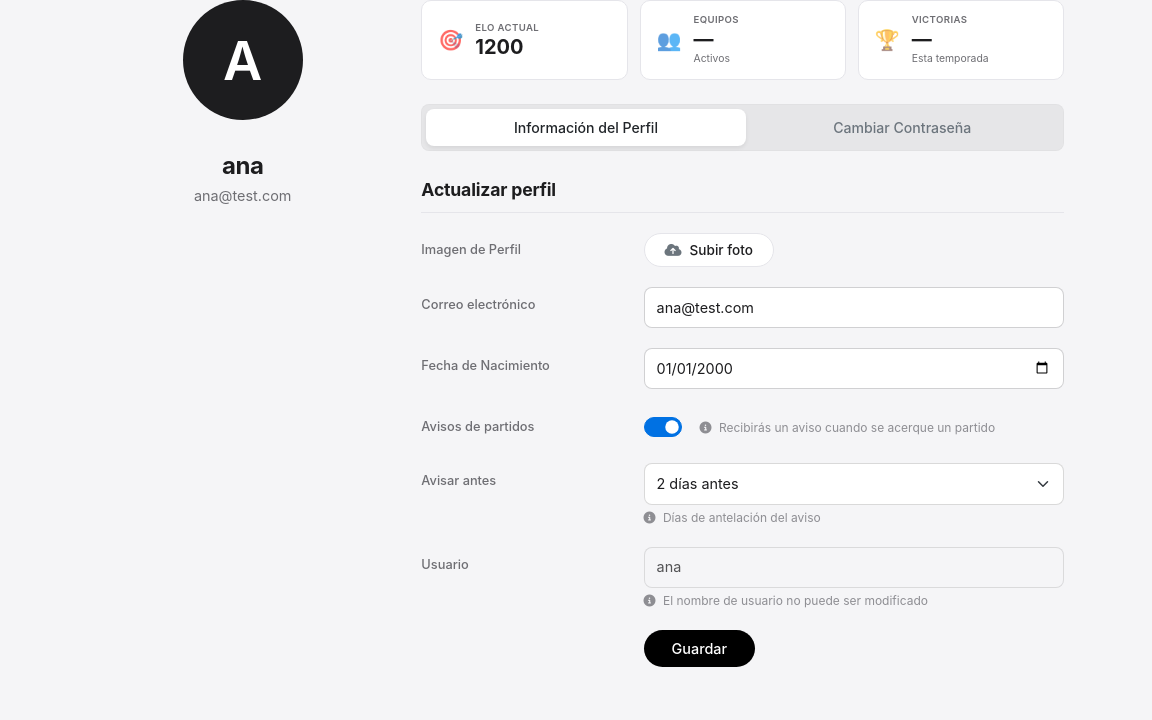
Profile › cambia la contrasena correctamente
The image size is (1152, 720).
Step 1. Click the tab "Cambiar Contraseña" → (902, 128), box 746,109 -> 1059,146
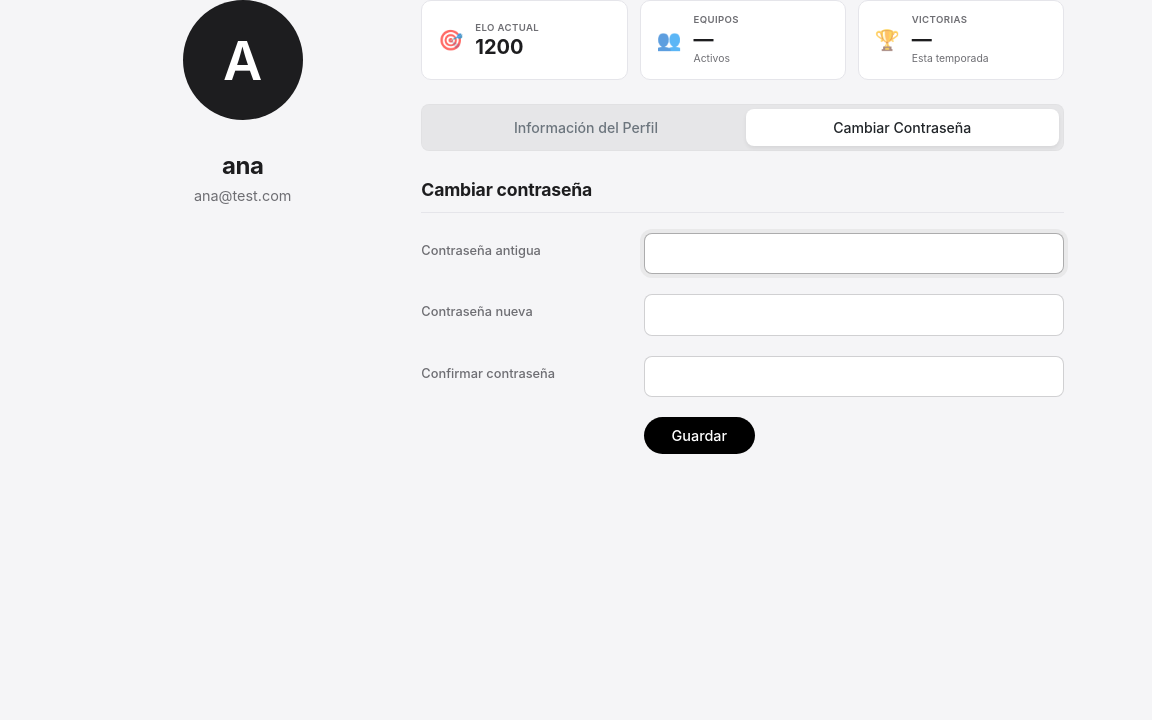
Step 2. Type "vieja1" into the password field with id "oldPassword" → (854, 254), box 644,233 -> 1064,274
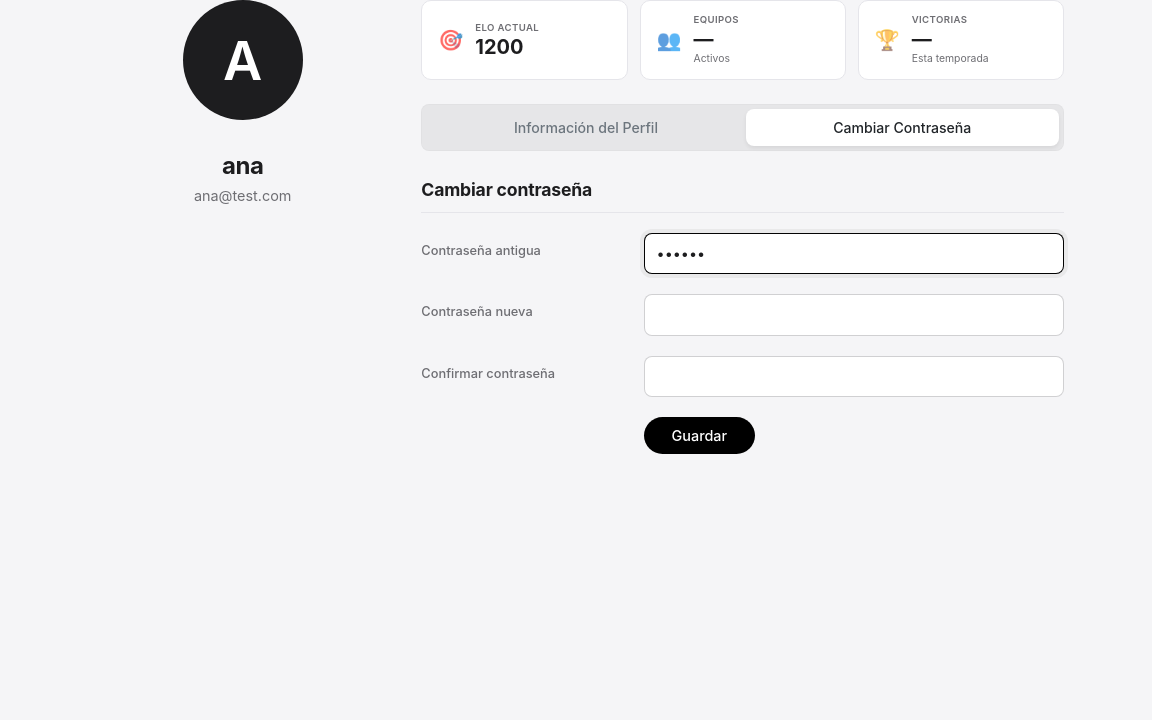
Step 3. Type "Nueva12@" into the password field with id "newPassword" → (854, 315), box 644,294 -> 1064,336
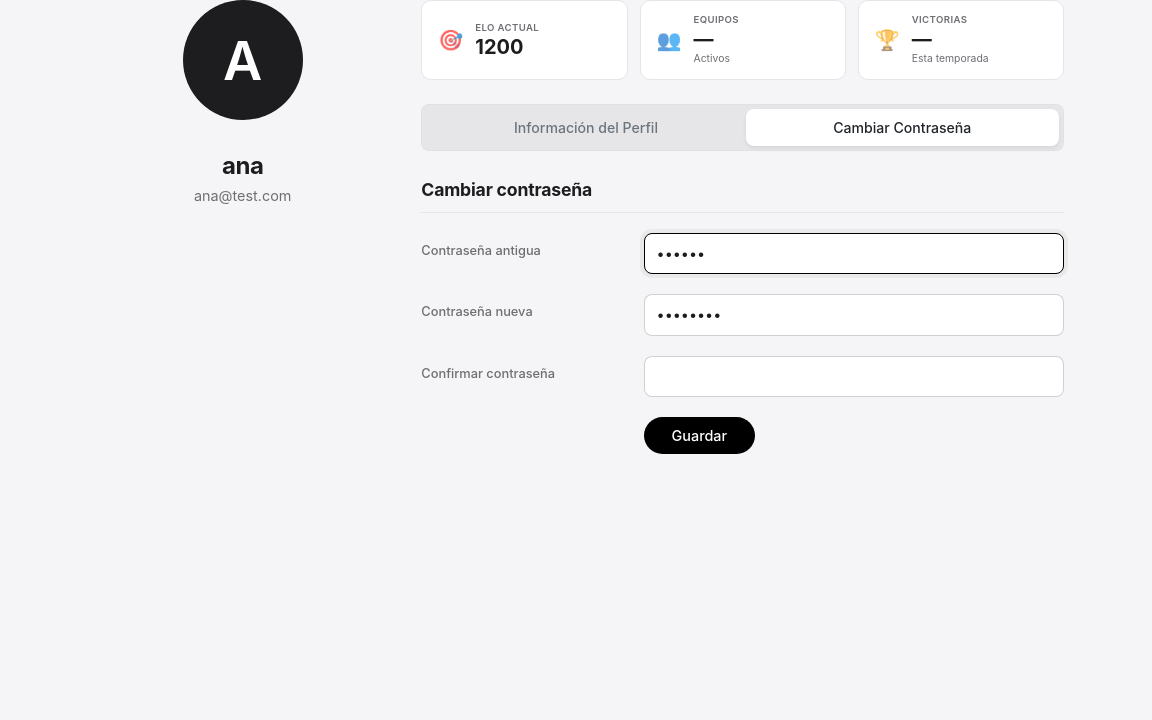
Step 4. Type "Nueva12@" into the password field with id "confirmNewPassword" → (854, 376), box 644,356 -> 1064,397
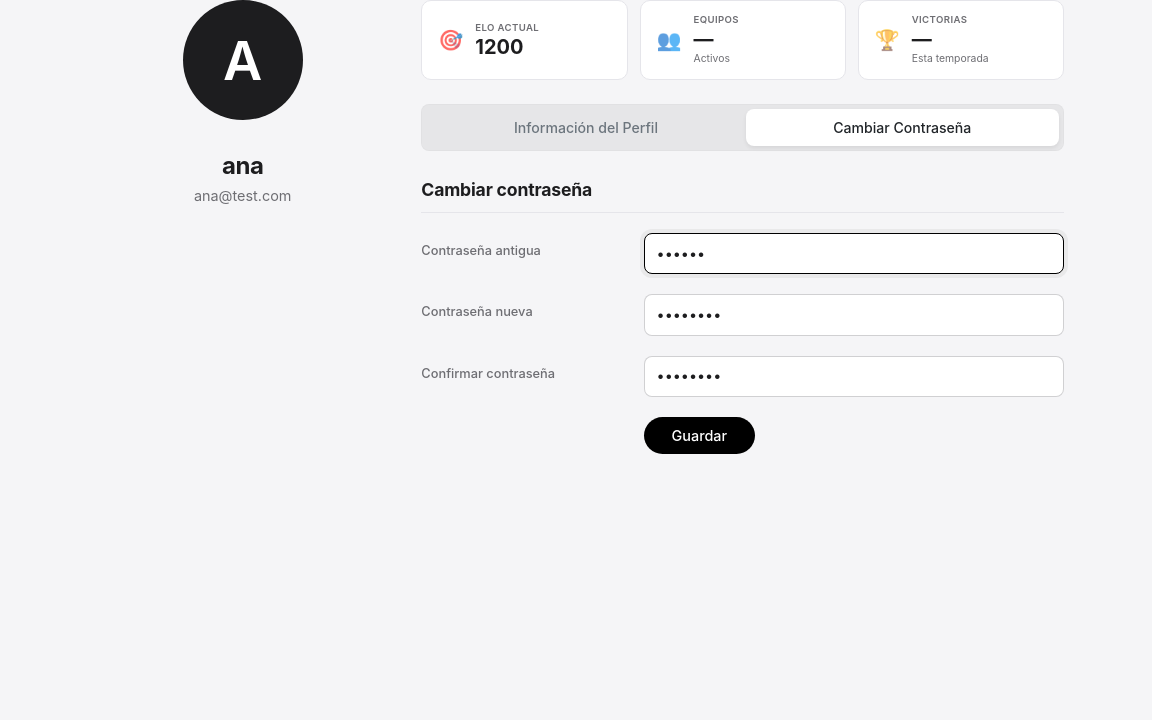
Step 5. Submit the form, box 421,233 -> 1064,454
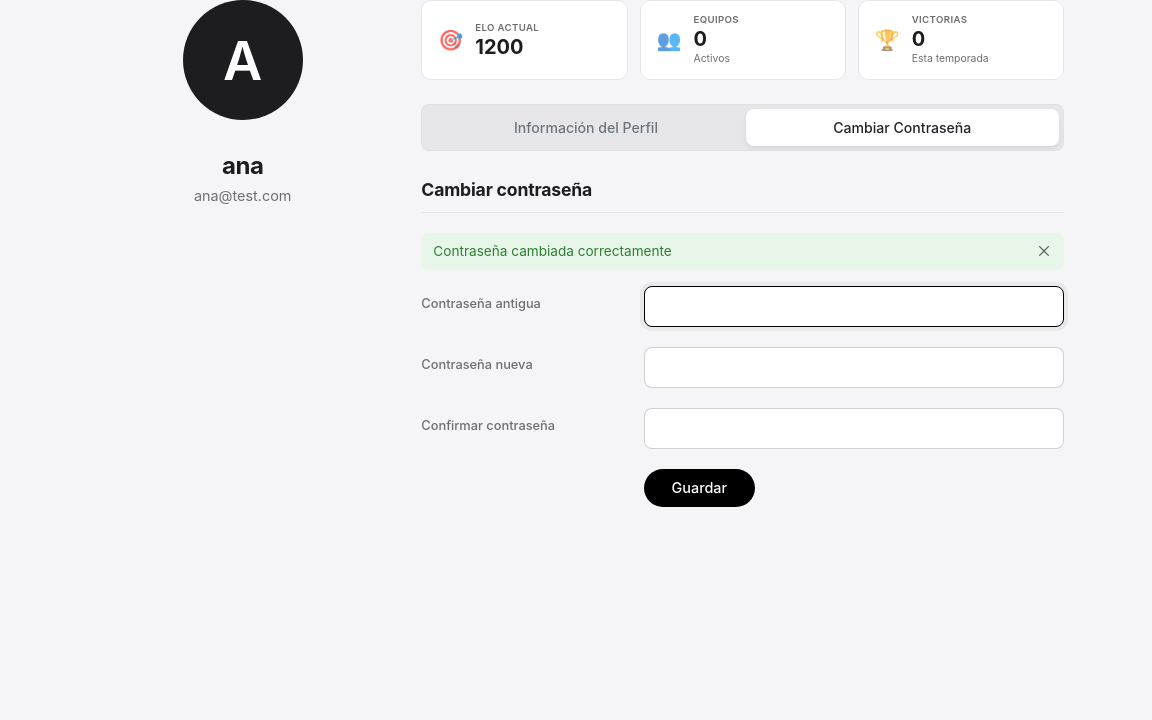
Result: the text "Contraseña cambiada correctamente" is shown at 433,241 -> 672,262
Result: the password field with id "newPassword" is empty at 644,347 -> 1064,388
